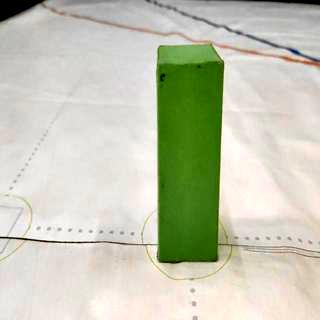greenbox: (155, 44, 225, 262)
